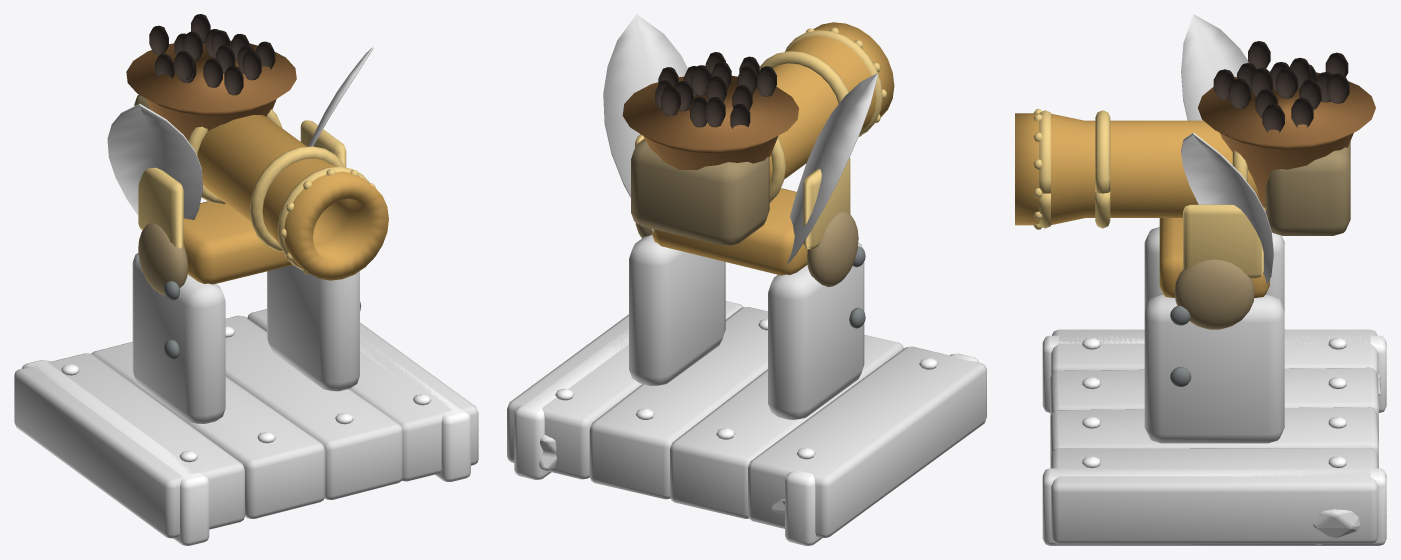
File: seed-2.fbx
3 views of the same model, side by side, from view 1: azimuth 30°, elevation 25°; view 2: azimuth 150°, elevation 25°; view 3: azimuth 270°, elevation 25° (orthographic). The views are drawn at different scales.
Parts seen in each view (by area): view 1: Base_Bark, Turret_Bark, Barrel_Metal, Turret_Organic, Turret_Metal, Base_Metal, Petals_Leaf; view 2: Base_Bark, Turret_Bark, Turret_Metal, Turret_Organic, Petals_Leaf, Barrel_Metal, Base_Metal, Base_Stone; view 3: Base_Bark, Turret_Bark, Barrel_Metal, Turret_Metal, Turret_Organic, Base_Metal, Petals_Leaf, Base_Stone.
Boxes of the visible parts, left/top/right/bottom form: Base_Bark: left=14, top=309, right=478, bottom=538; Turret_Bark: left=132, top=253, right=359, bottom=423; Barrel_Metal: left=188, top=109, right=388, bottom=280; Turret_Organic: left=126, top=14, right=296, bottom=140; Turret_Metal: left=134, top=95, right=375, bottom=359; Base_Metal: left=22, top=326, right=470, bottom=545; Petals_Leaf: left=107, top=47, right=373, bottom=219; Base_Bark: left=507, top=301, right=986, bottom=537; Turret_Bark: left=629, top=235, right=864, bottom=419; Turret_Metal: left=631, top=27, right=886, bottom=328; Turret_Organic: left=622, top=52, right=798, bottom=169; Petals_Leaf: left=603, top=14, right=877, bottom=263; Barrel_Metal: left=759, top=22, right=894, bottom=202; Base_Metal: left=514, top=318, right=978, bottom=545; Base_Stone: left=539, top=435, right=801, bottom=532; Base_Bark: left=1050, top=329, right=1378, bottom=544; Turret_Bark: left=1144, top=227, right=1284, bottom=443; Barrel_Metal: left=1015, top=110, right=1258, bottom=228; Turret_Metal: left=1033, top=109, right=1350, bottom=386; Turret_Organic: left=1198, top=41, right=1375, bottom=207; Base_Metal: left=1042, top=335, right=1386, bottom=545; Petals_Leaf: left=1181, top=14, right=1273, bottom=284; Base_Stone: left=1313, top=374, right=1386, bottom=545.
Bounding box in the file's own units: 89.81 × 108 × 87.54.
